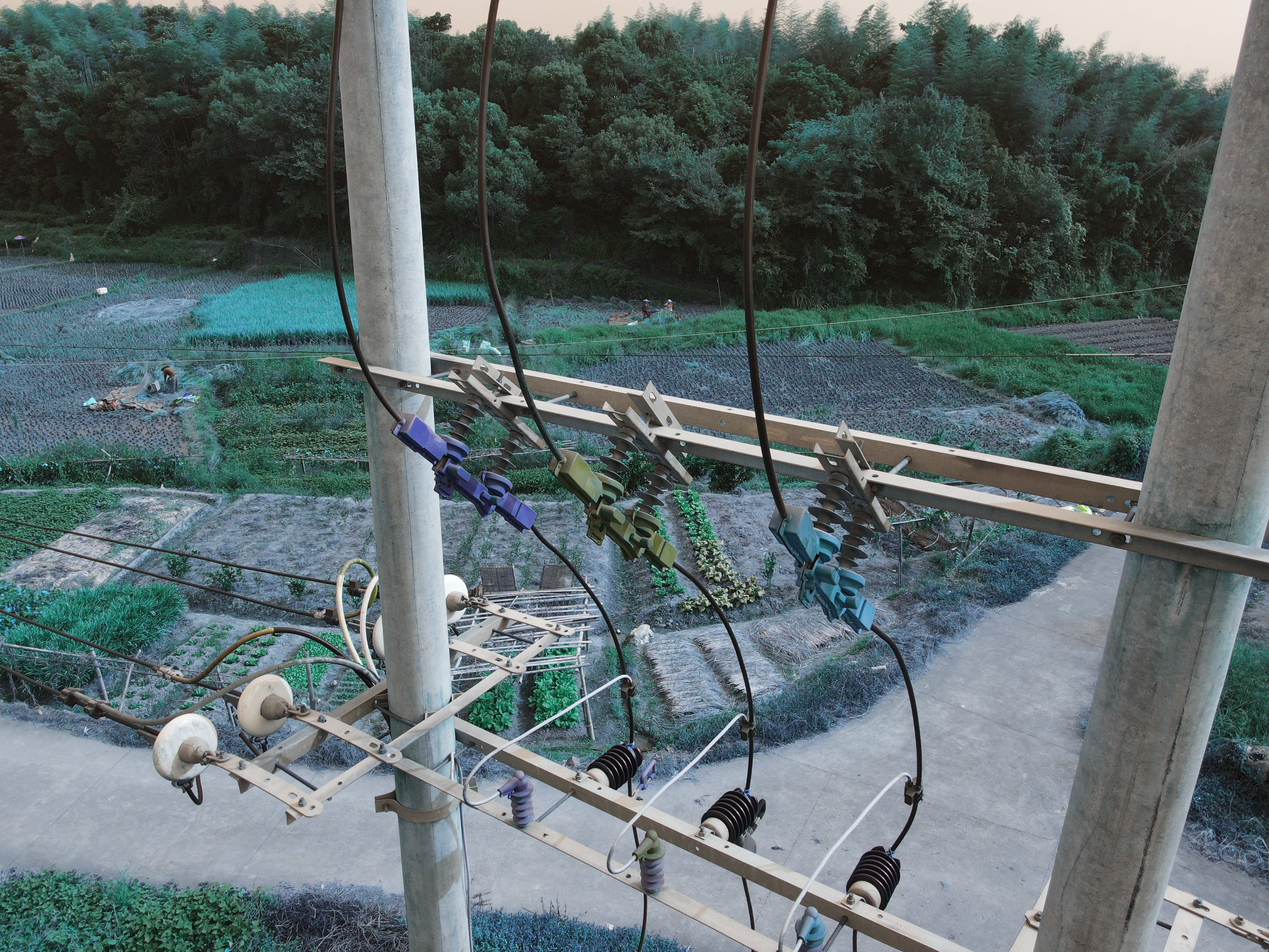severe_soiling_no_discharge_whole: (150, 710, 218, 783)
